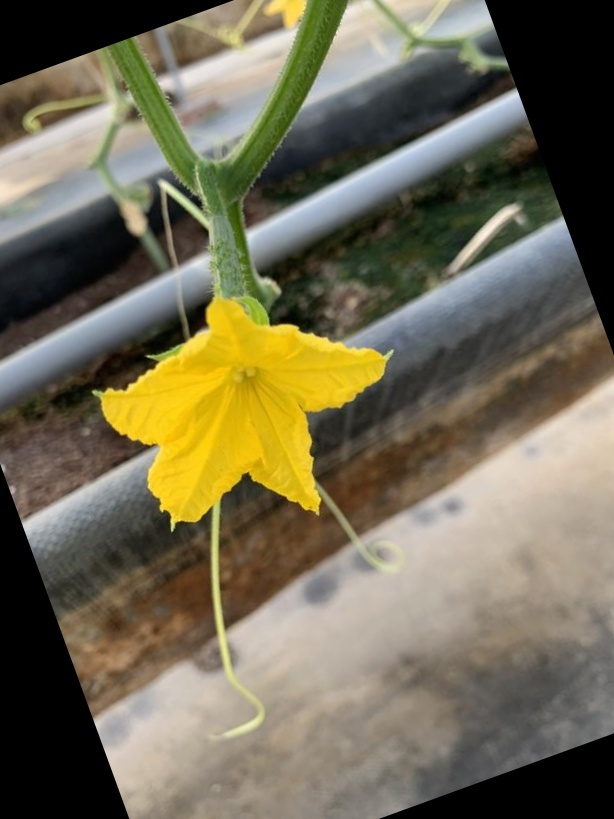flowering: (86, 200, 394, 533)
